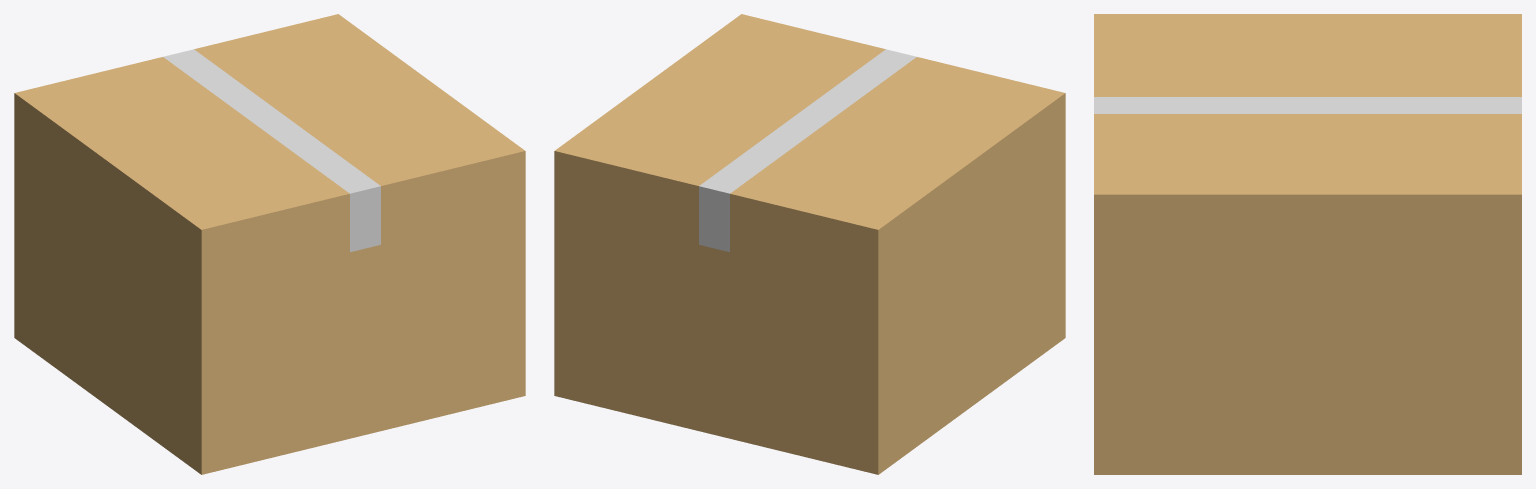
Rendered from Computer_mouseCardboardbox.fbx.
3 views of the same model, side by side, from view 1: azimuth 30°, elevation 25°; view 2: azimuth 150°, elevation 25°; view 3: azimuth 270°, elevation 25° (orthographic). The views are drawn at different scales.
Parts seen in each view (by area): view 1: Cube; view 2: Cube; view 3: Cube.
Part boxes in pixels (x1,y1,x2,y2): Cube: [14, 14, 525, 474]; Cube: [554, 14, 1065, 474]; Cube: [1094, 14, 1521, 474].
Bounding box in the file's own units: 200 × 145 × 200.
